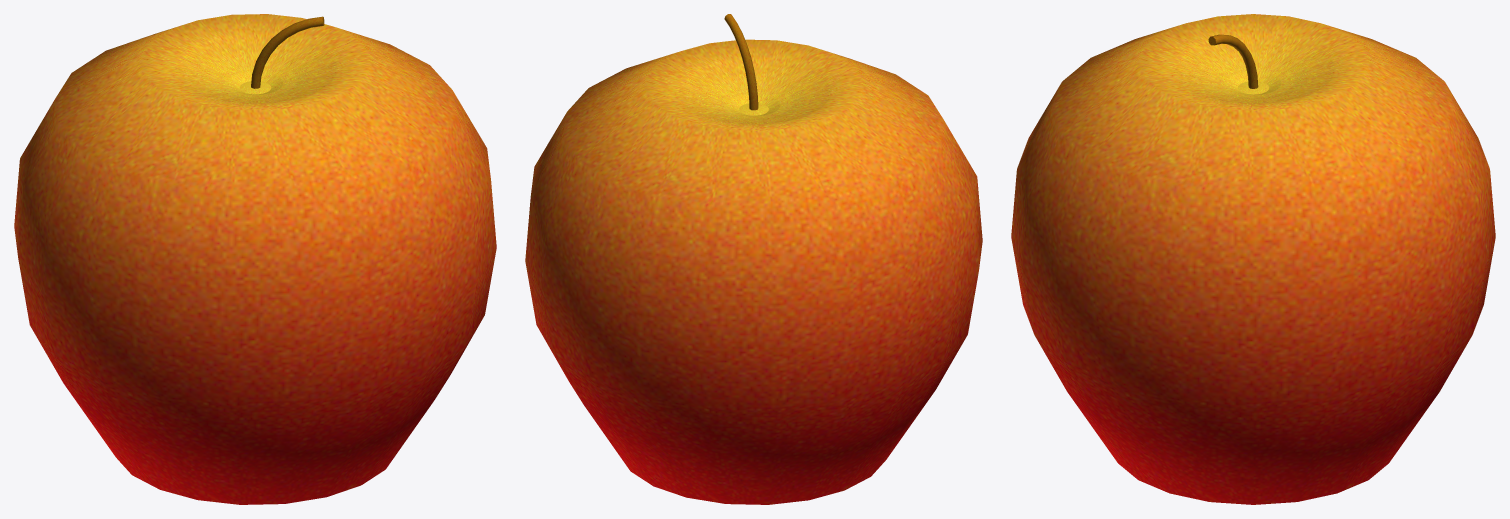
The model's file is Apple.FBX.
3 renders of one model, left to right at view 1: azimuth 30°, elevation 25°; view 2: azimuth 150°, elevation 25°; view 3: azimuth 270°, elevation 25°, orthographic. The views are drawn at different scales.
Visible parts, largest first — view 1: Apple; view 2: Apple; view 3: Apple.
Boxes of the visible parts, x1,y1,x2,y2 form: Apple: (14,14,496,504); Apple: (525,14,982,504); Apple: (1011,14,1495,504).
Size of the model in its own units: 76.2 by 76.2 by 77.46.
2 materials, 2 textured.
